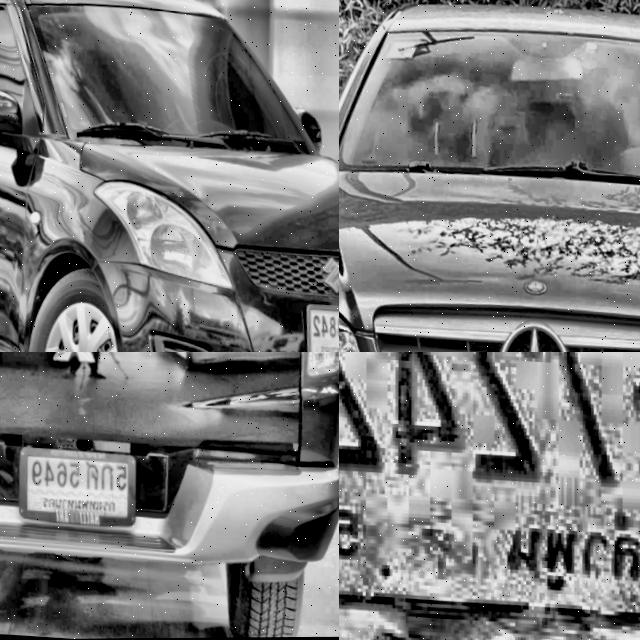license-plate: (339, 352, 640, 640), (5, 445, 132, 528), (296, 302, 339, 352)
